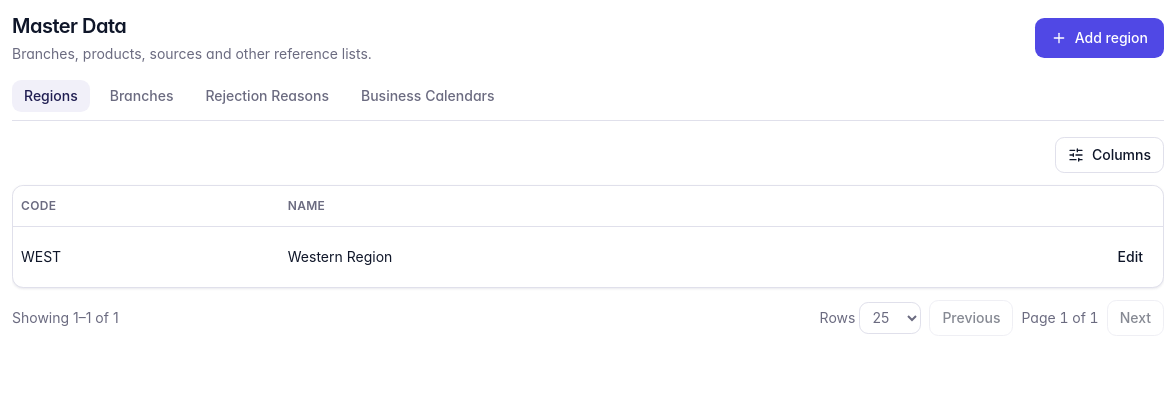
Scenario: MasterDataPage › lists business calendars with timezone
Click the button "Business Calendars": [428, 96] box x1=349 y1=80 x2=506 y2=112
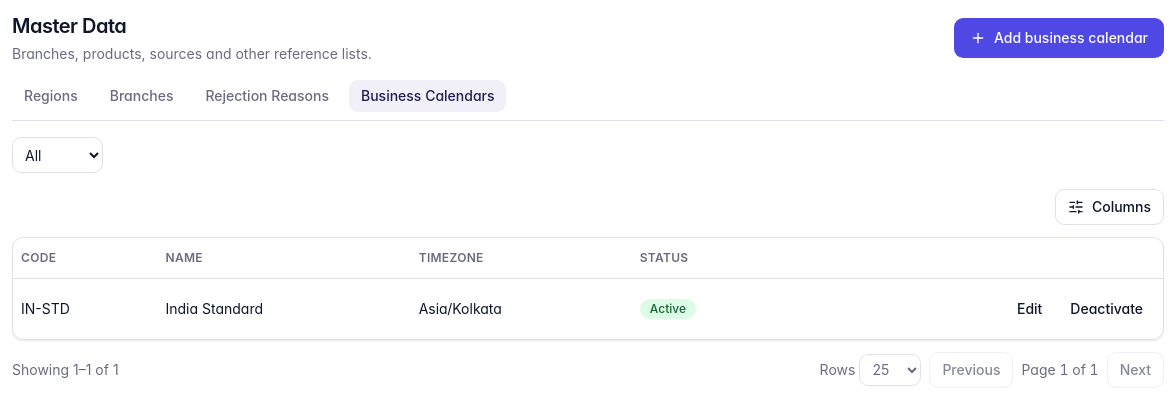
Result: the text "IN-STD" is shown at x1=13 y1=278 x2=158 y2=338
Result: the text "Asia/Kolkata" is shown at x1=411 y1=278 x2=632 y2=338
